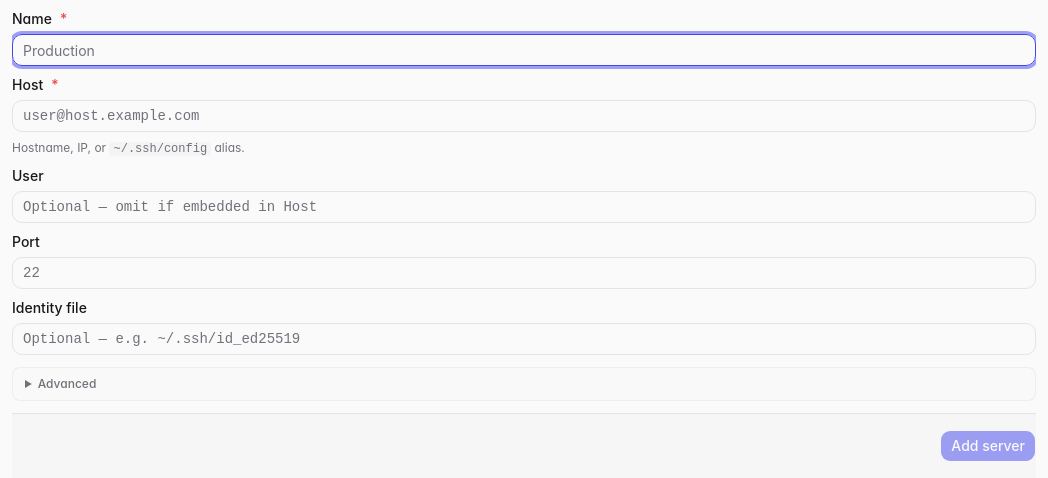
Scenario: AddServerForm — submit gating › keeps submit disabled when Host contains invalid characters
Type "Bad" into the field labelled "Name *" at (524, 50), box [12,34,1036,66]
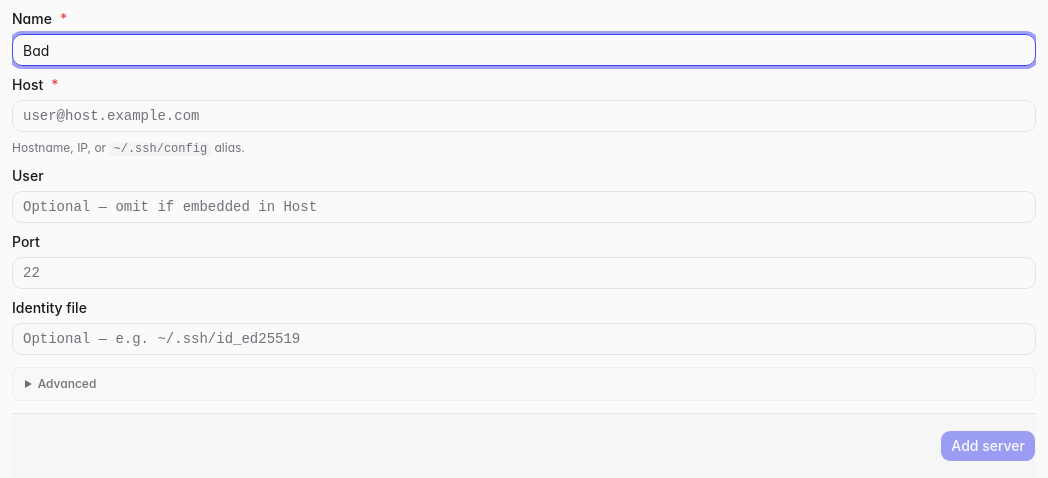
Type "bad host!" into the field labelled "Host *" at (524, 116), box [12,100,1036,132]
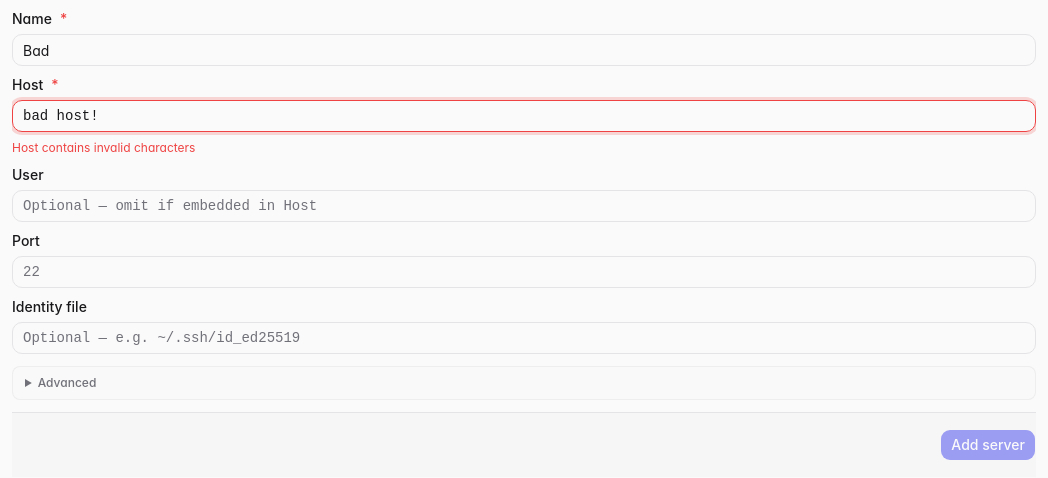
Expected: the button "Add server" is disabled, [940,429,1036,461]
Expected: the text "Host contains invalid characters" is shown, [12,140,196,155]
